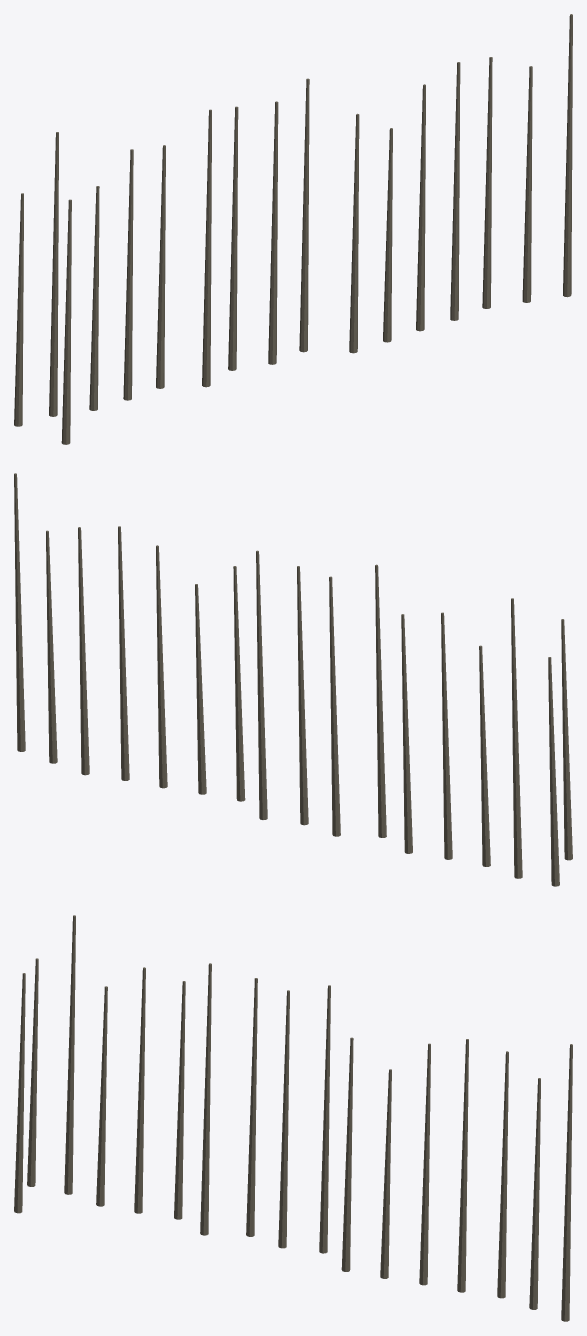
The model's file is xiyuan-vegetation-23-near.glb.
The picture shows the model from 3 angles, top to bottom: view 1: azimuth 30°, elevation 25°; view 2: azimuth 150°, elevation 25°; view 3: azimuth 330°, elevation 25°; orthographic projection.
Visible parts, largest first — view 1: vegetation cedar trunk; view 2: vegetation cedar trunk; view 3: vegetation cedar trunk.
Boxes of the visible parts, <box> form: vegetation cedar trunk: <box>14,14,572,444</box>; vegetation cedar trunk: <box>14,473,572,886</box>; vegetation cedar trunk: <box>14,915,572,1321</box>.
Bounding box in the file's own units: 28.88 × 13.98 × 3.55.
